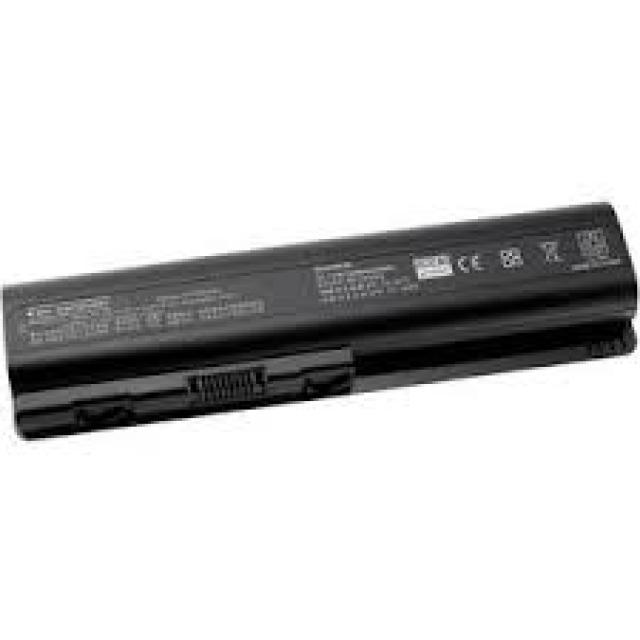Battery: (0, 194, 640, 455)
